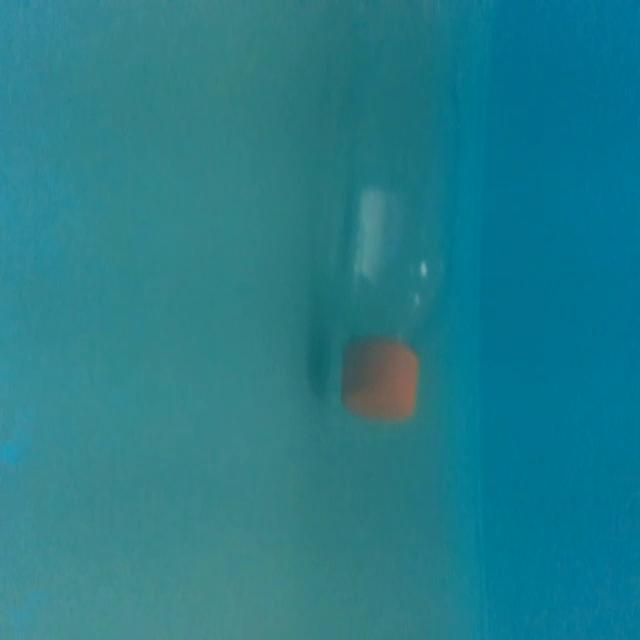plastic bottle: (333, 23, 462, 426)
